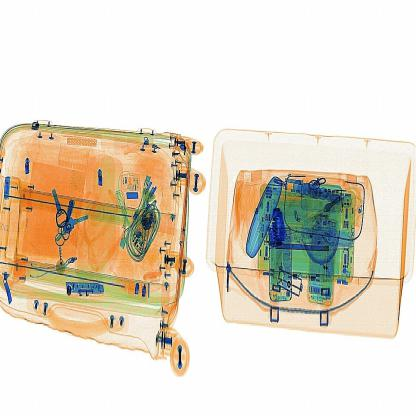scissors: (266, 206, 290, 257)
